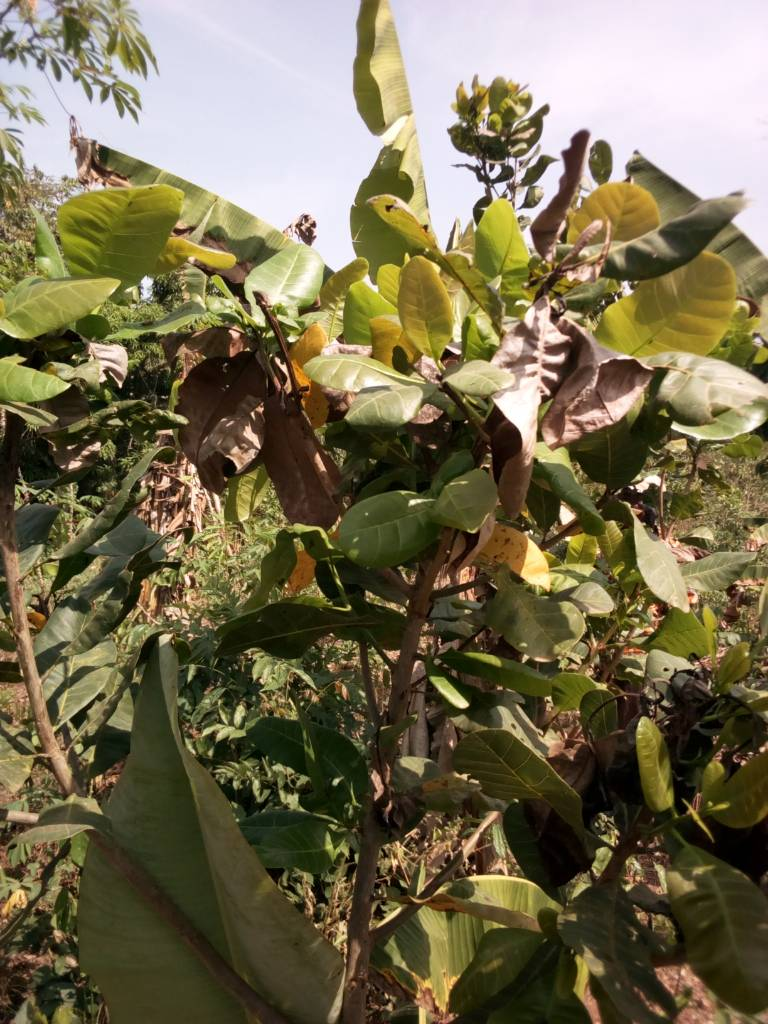Dessèchement des bourgeons: (200, 320, 296, 460)
